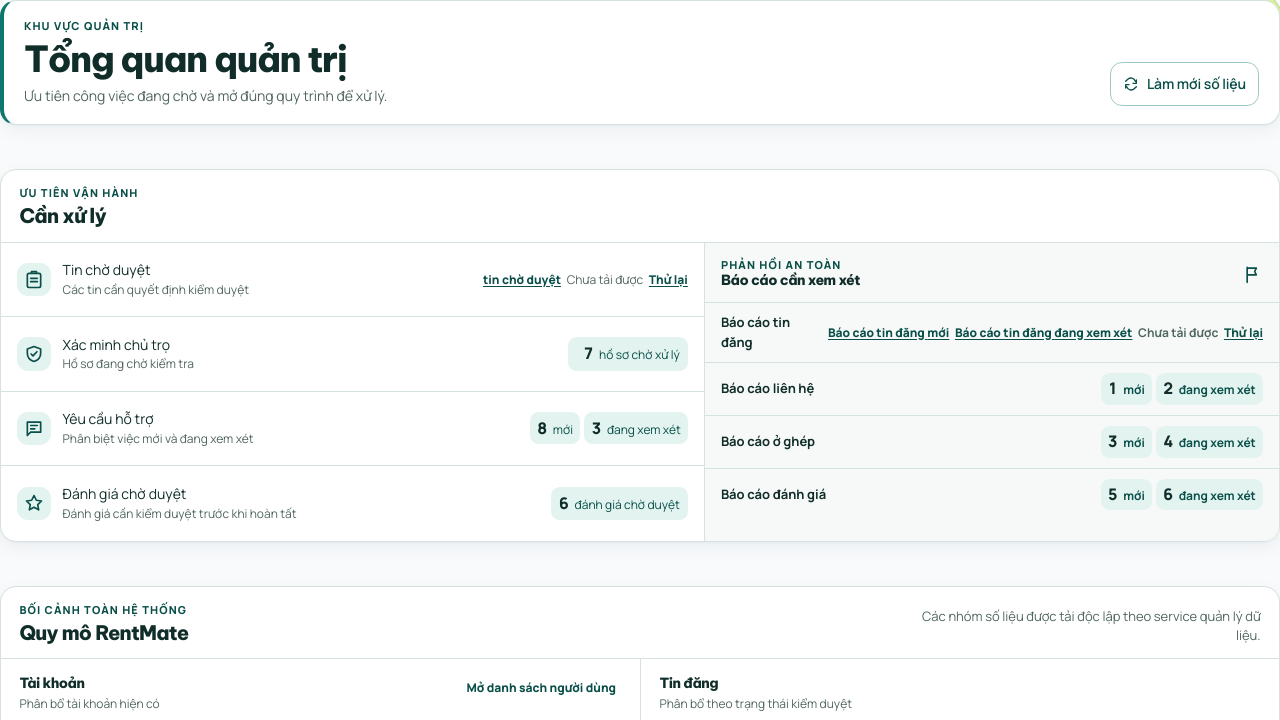
AdminOverviewPage › keeps successful sources and workflow links usable when listings data fails, then retries only listings
The image size is (1280, 720).
Click the button "Thử lại" in the row of "Các tin cần quyết định kiểm duyệt".
click(668, 280)  # box [649, 272, 688, 288]
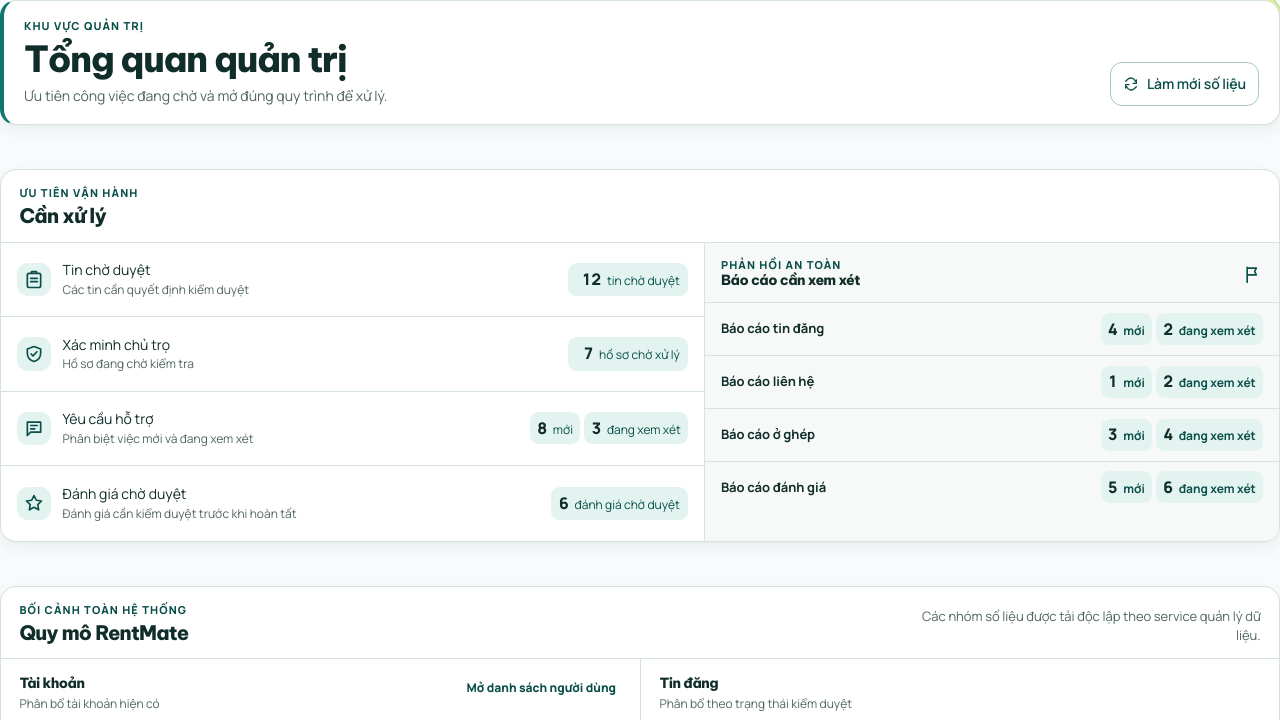
Check: the link with aria-label "tin chờ duyệt: 12" is shown, box [568, 263, 688, 296]
